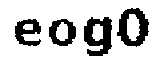0: (115, 3, 150, 50)
e: (11, 14, 43, 50)
g: (83, 13, 116, 60)
o: (45, 18, 81, 48)
